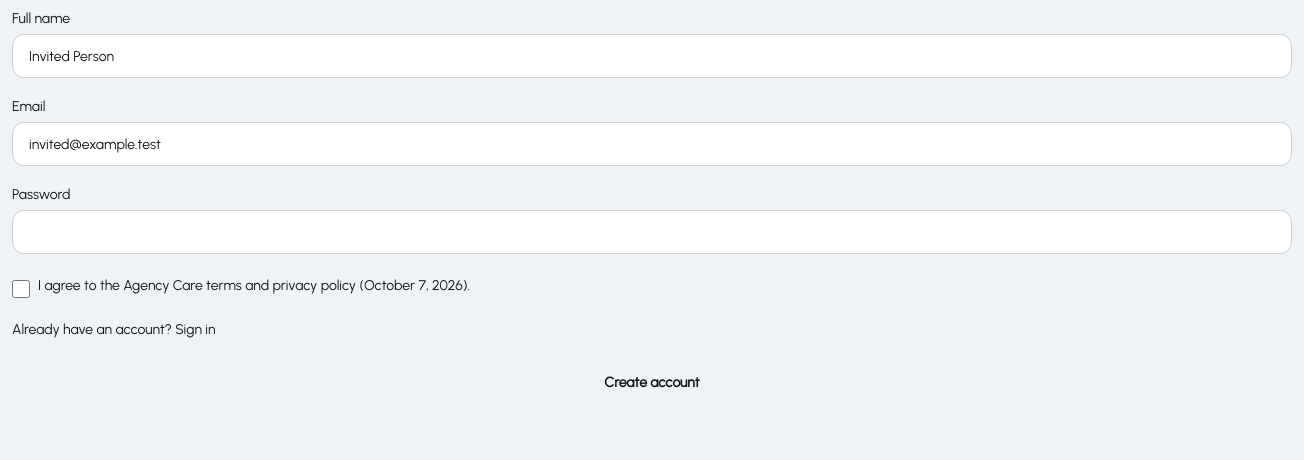
Test: invitation-bound registration › keeps verification recovery available without claiming failed email delivery succeeded
Type "password123" into the password field labelled "Password" at (652, 232), box [12, 210, 1292, 254]
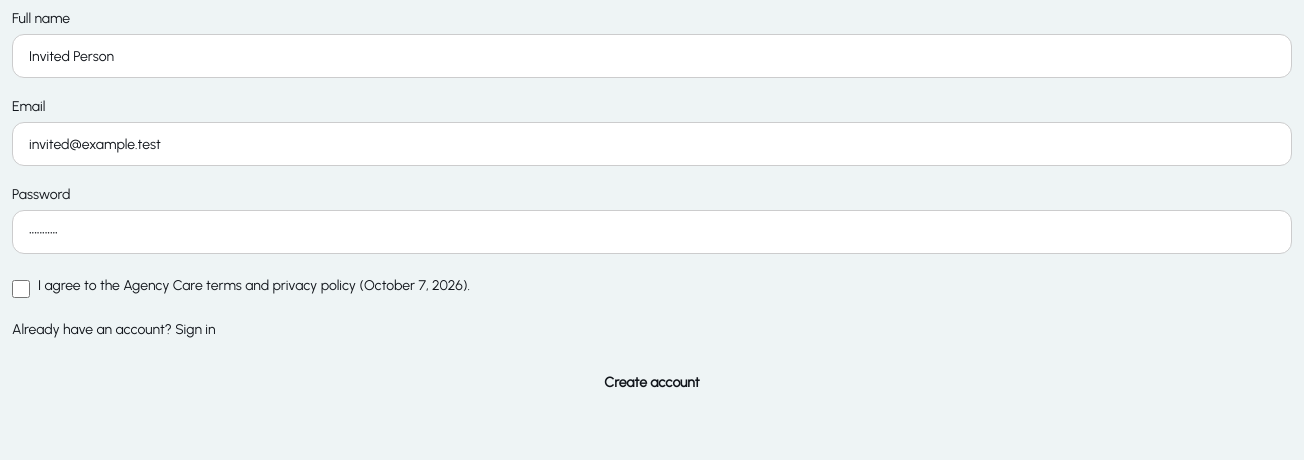
Click the checkbox labelled "I agree" at (21, 289), box [12, 280, 30, 298]
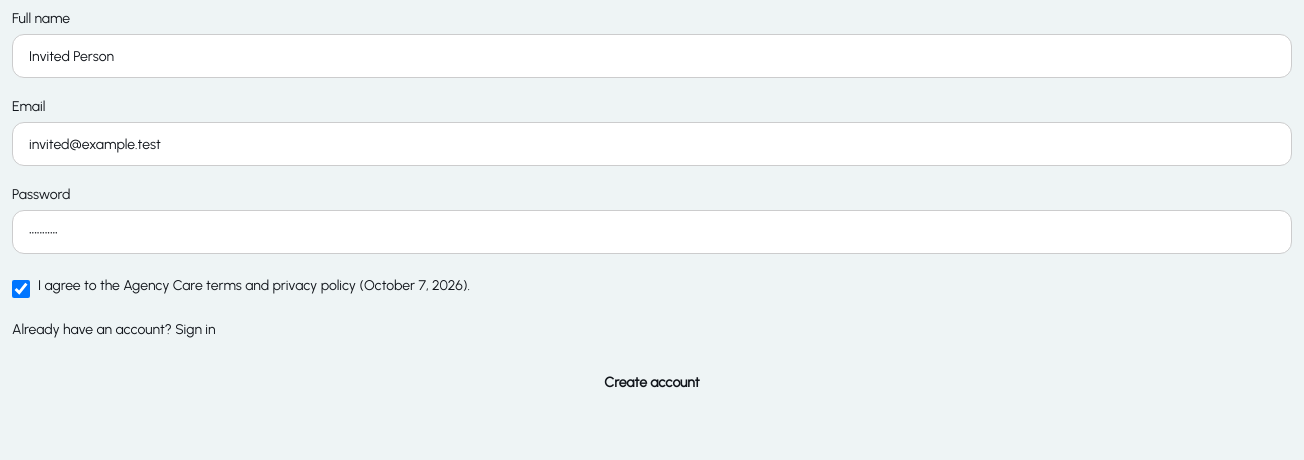
Click the button "Create account" at (652, 383), box [12, 362, 1292, 404]
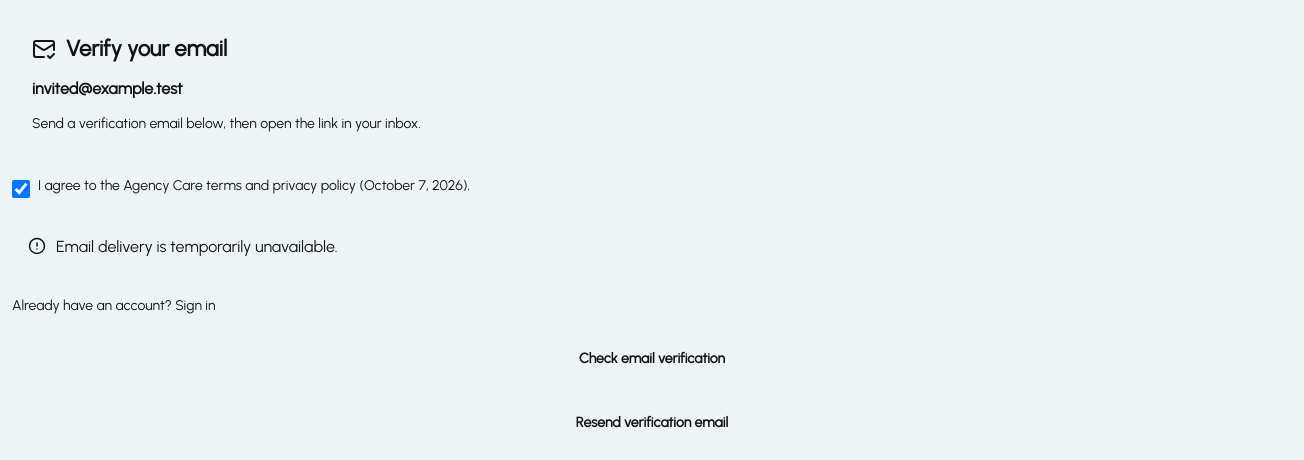
Expected: the message shows "temporarily unavailable", [56, 237, 338, 256]
Expected: the button "Resend verification email" is enabled, [12, 402, 1292, 444]
